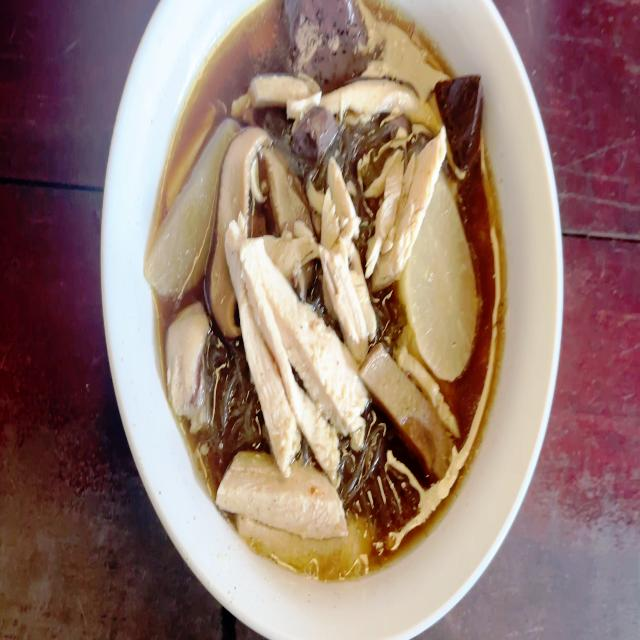boiled_chicken_blood_jelly: (285, 0, 366, 85), (425, 50, 485, 160), (286, 105, 342, 167)
chicken_shredded: (232, 221, 356, 461), (218, 444, 376, 570), (321, 157, 372, 362), (374, 129, 444, 274), (158, 288, 208, 421), (319, 65, 431, 115), (236, 63, 323, 109)
daikon_radish: (154, 114, 227, 308), (408, 192, 471, 375)
noodle: (154, 0, 501, 583)
